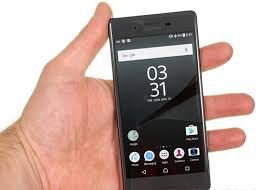sony: (108, 7, 212, 190)
